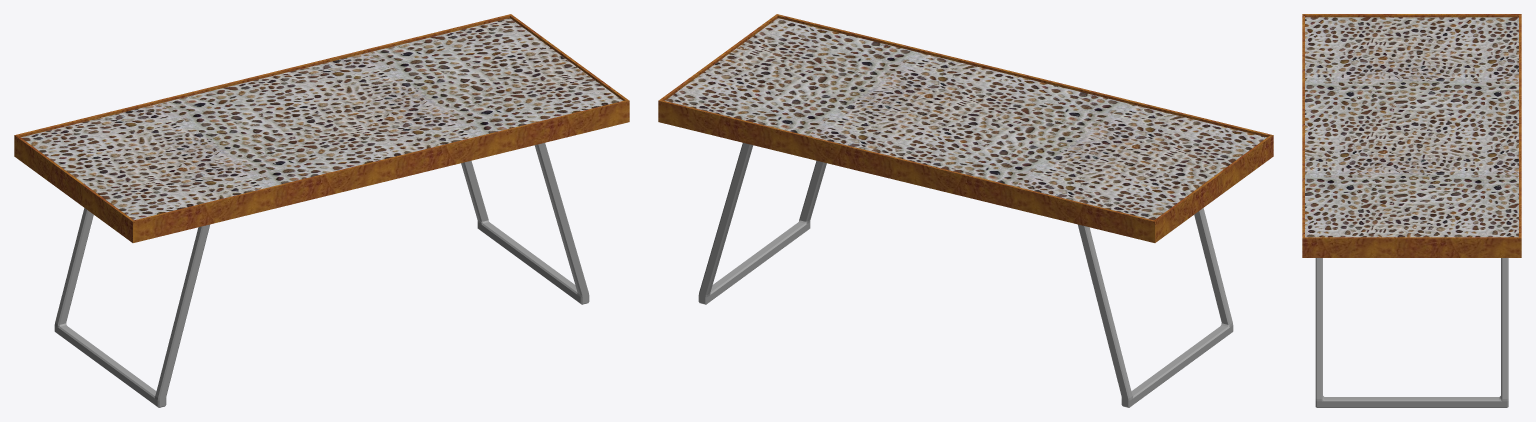
The model's file is sweethome3d-scopia-coffee-table-176.glb.
3 views of the same model, side by side, from view 1: azimuth 30°, elevation 25°; view 2: azimuth 150°, elevation 25°; view 3: azimuth 270°, elevation 25° (orthographic). The views are drawn at different scales.
Parts seen in each view (by area): view 1: Cube.003_Cube.056, Cube.004_Cube.057; view 2: Cube.003_Cube.056, Cube.004_Cube.057; view 3: Cube.003_Cube.056, Cube.004_Cube.057.
Part boxes in pixels (x1,y1,x2,y2): Cube.003_Cube.056: [14, 14, 629, 242]; Cube.004_Cube.057: [54, 143, 589, 407]; Cube.003_Cube.056: [658, 14, 1273, 242]; Cube.004_Cube.057: [698, 143, 1233, 407]; Cube.003_Cube.056: [1302, 14, 1521, 257]; Cube.004_Cube.057: [1315, 258, 1508, 407].
Bounding box in the file's own units: 124 × 47.66 × 51.16.
3 materials, 2 textured.
